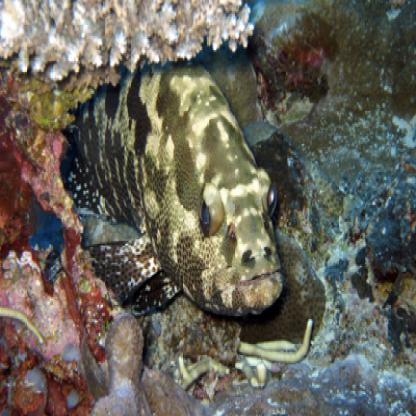grouper: (57, 59, 284, 317)
